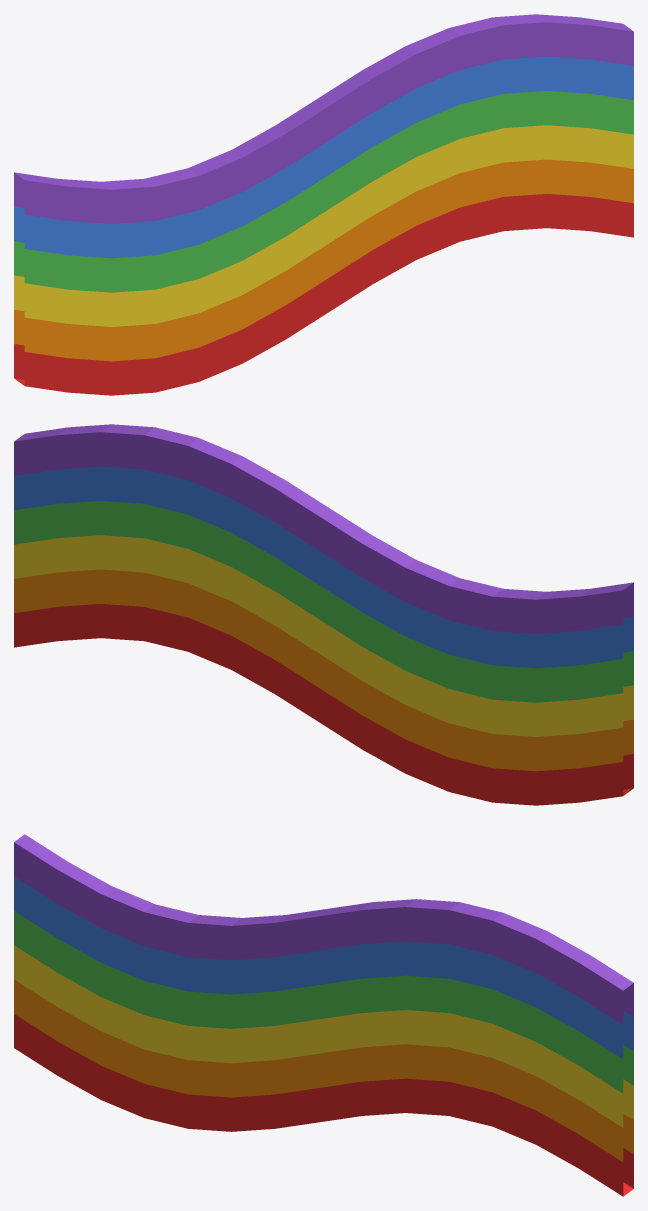
The model's file is RainbowStrip.fbx.
The picture shows the model from 3 angles, top to bottom: view 1: azimuth 30°, elevation 25°; view 2: azimuth 150°, elevation 25°; view 3: azimuth 330°, elevation 25°; orthographic projection.
Visible parts, largest first — view 1: RainbowStrip; view 2: RainbowStrip; view 3: RainbowStrip.
Boxes of the visible parts, left/top/right/bottom form: RainbowStrip: left=14, top=14, right=633, bottom=395; RainbowStrip: left=14, top=424, right=633, bottom=805; RainbowStrip: left=14, top=834, right=633, bottom=1196.
Bounding box in the file's own units: 0.13 × 0.0576 × 0.004.
